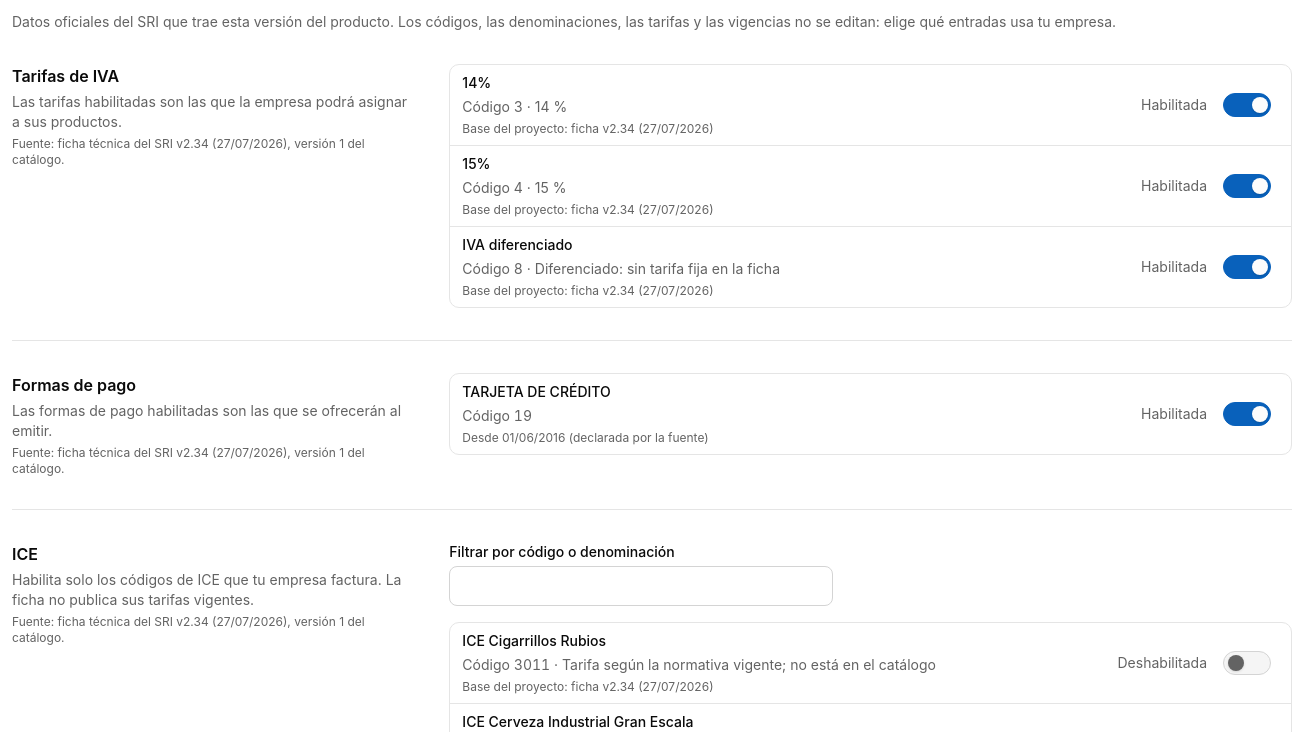
Test: Catálogos fiscales (design D17) › ICE se filtra por código o denominación y muestra la variante de los códigos repetidos
Type "cerveza" into the search field named "Filtrar por código o denominación en ICE".
click(641, 586); type("cerveza")  # box x1=449 y1=566 x2=833 y2=606
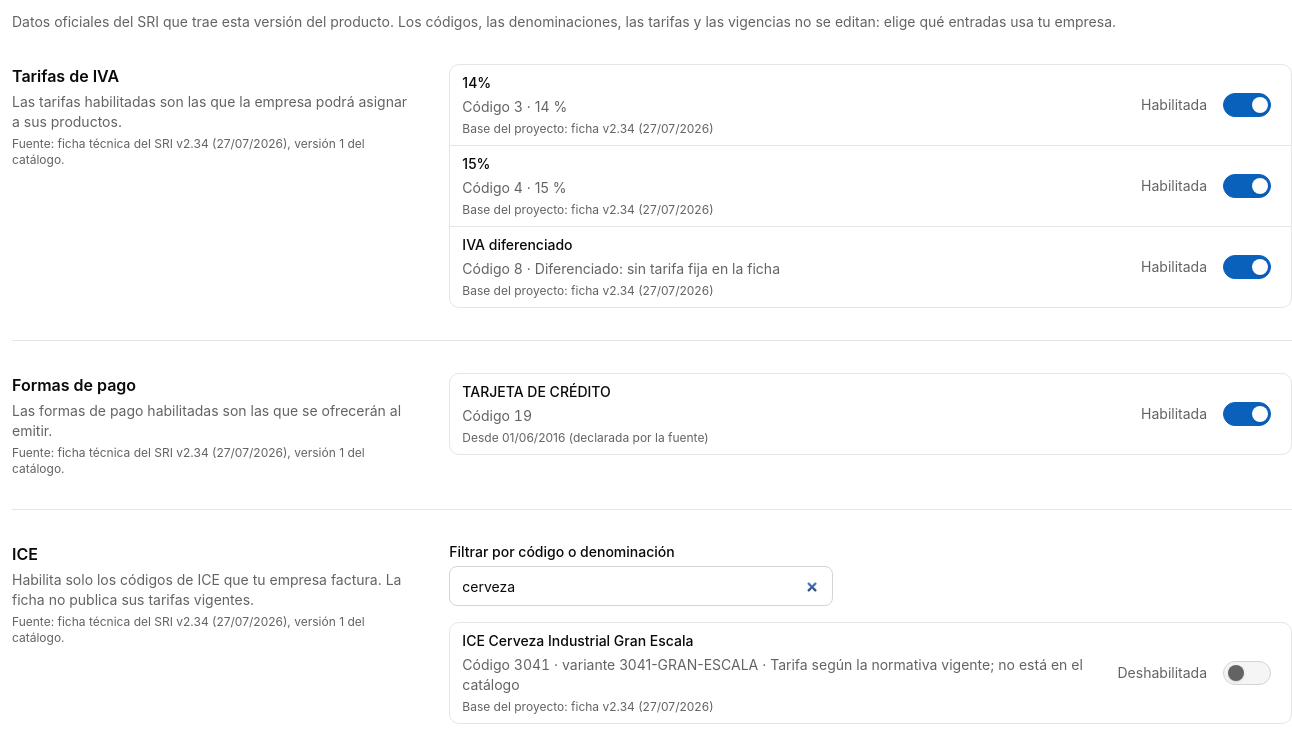
Expected: the text "ICE Cerveza Industrial Gran Escala" is shown, x1=462 y1=632 x2=693 y2=649
Expected: the text "ICE Cigarrillos Rubios" is gone
